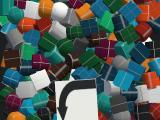Left: (55, 78, 99, 120)
